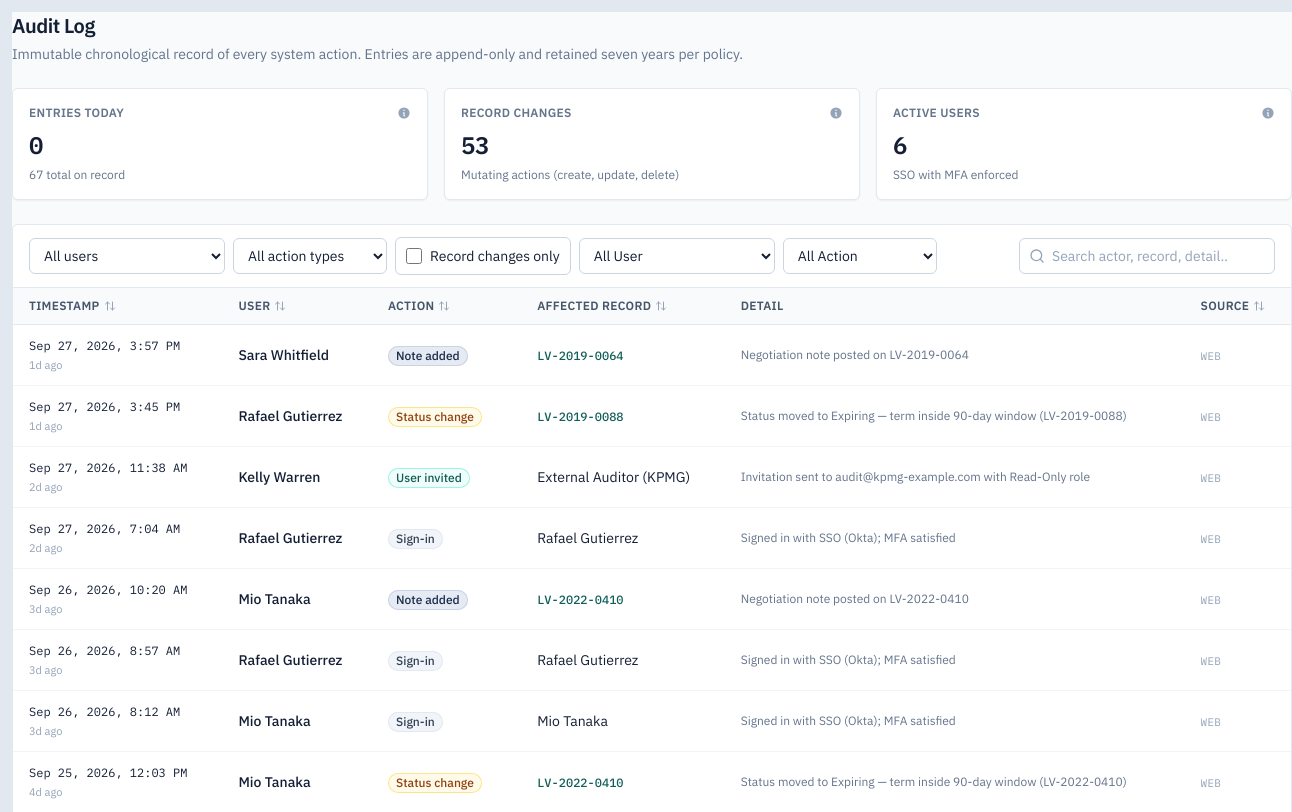
Test: AuditLogView › narrows to mutating record changes only
Click the checkbox labelled "Record changes only" at coordinates (414, 256), box [406,248,422,264]
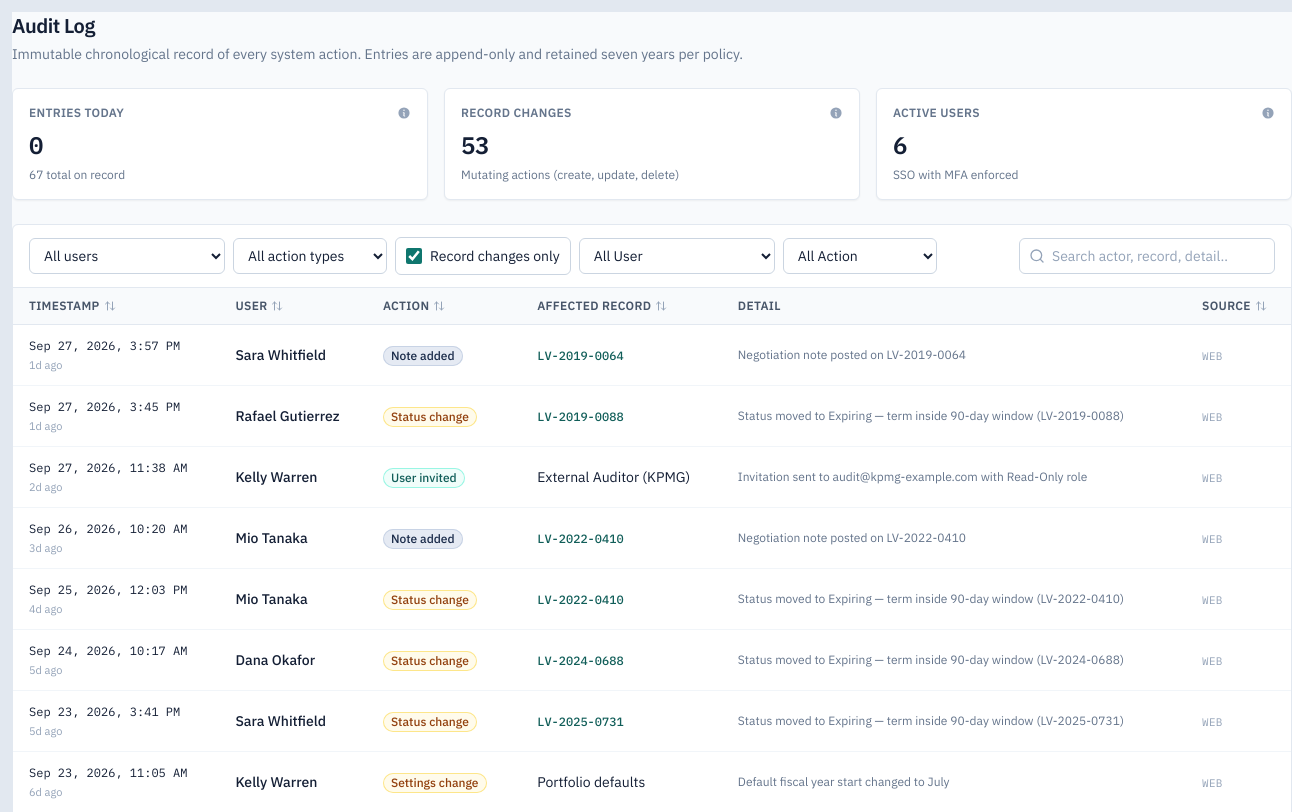
Expected: the text "Sign-in" is gone
